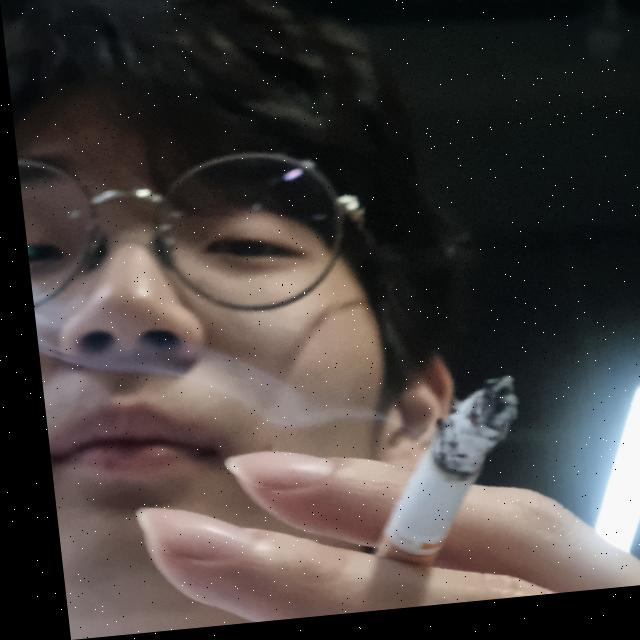cigarette: (347, 375, 526, 578)
